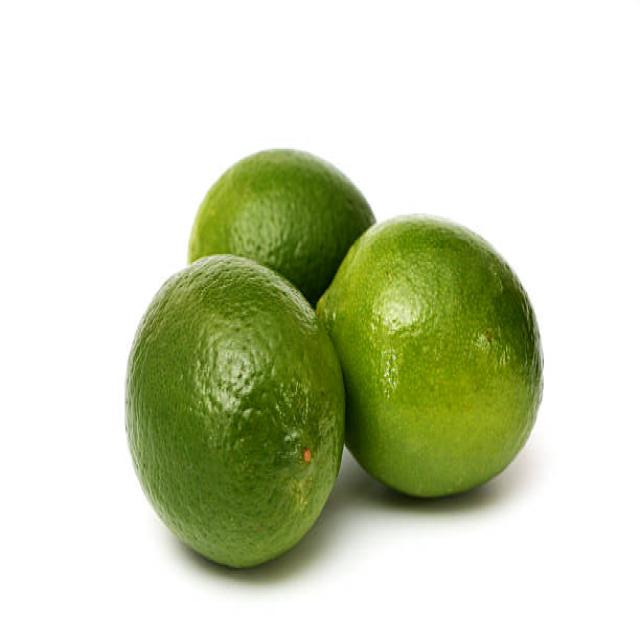Unripe: (123, 253, 348, 572), (316, 212, 546, 500)
